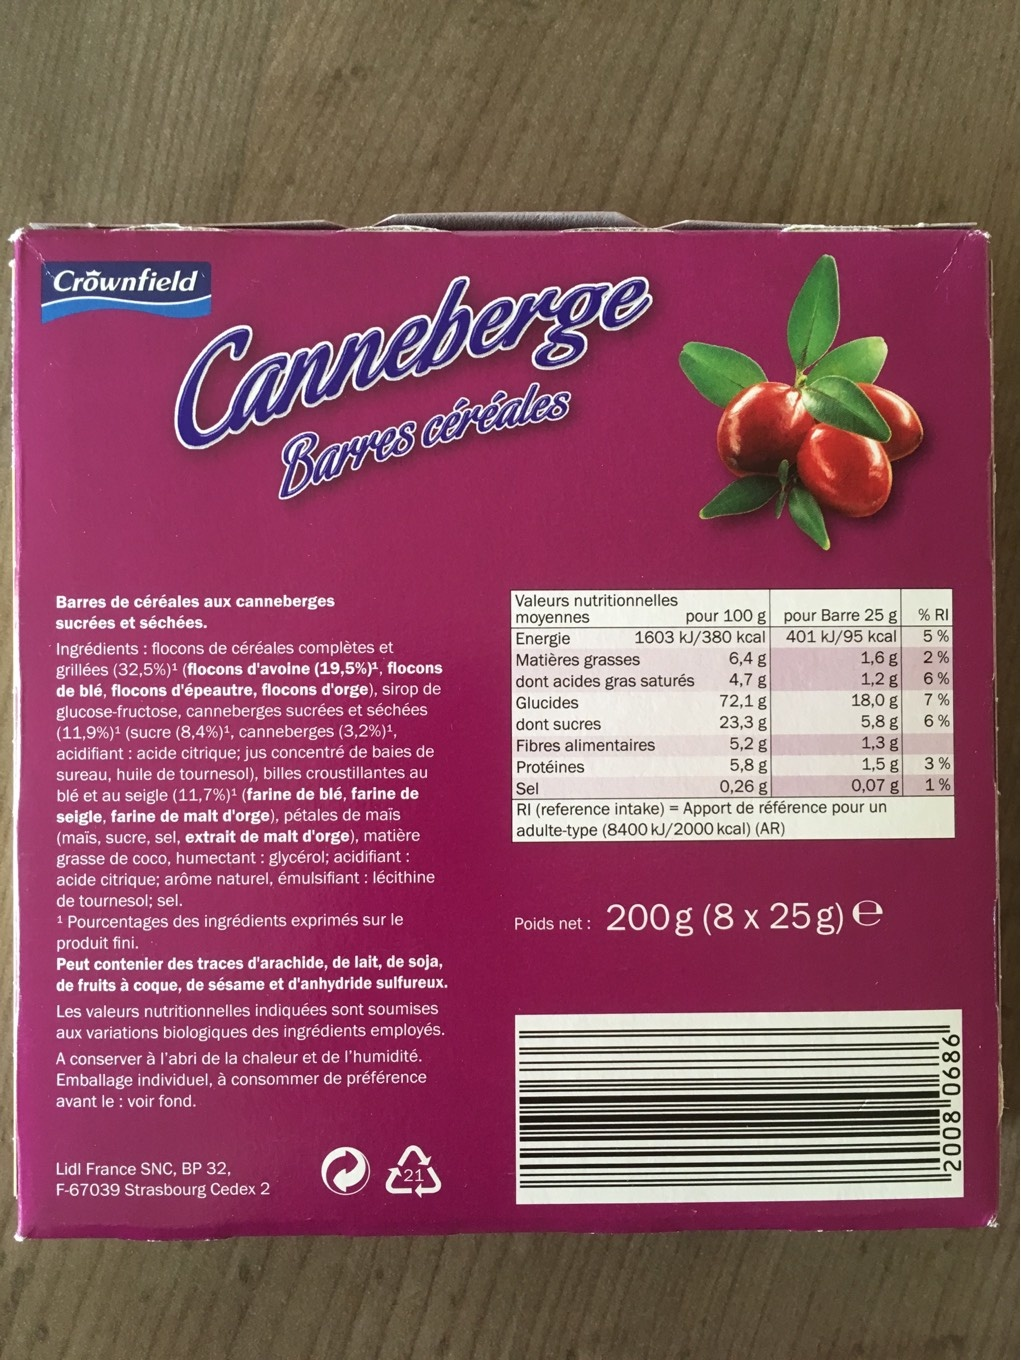column: (513, 592, 768, 794), (786, 589, 899, 794), (915, 590, 949, 793)
table: (508, 589, 953, 801)
